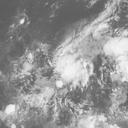cyclone: (49, 43, 95, 90)
